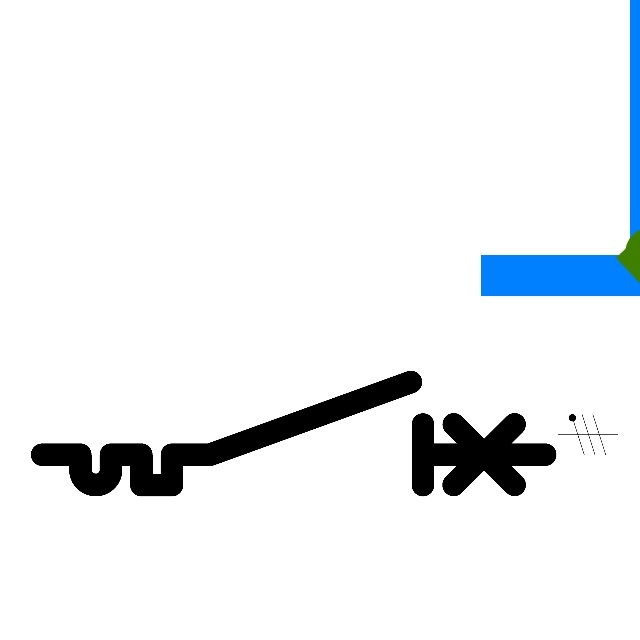interruptor_termomagnetico: (29, 369, 558, 498)
